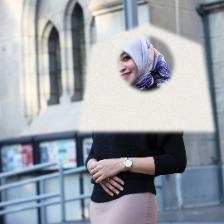Mukena: (77, 23, 215, 131)
